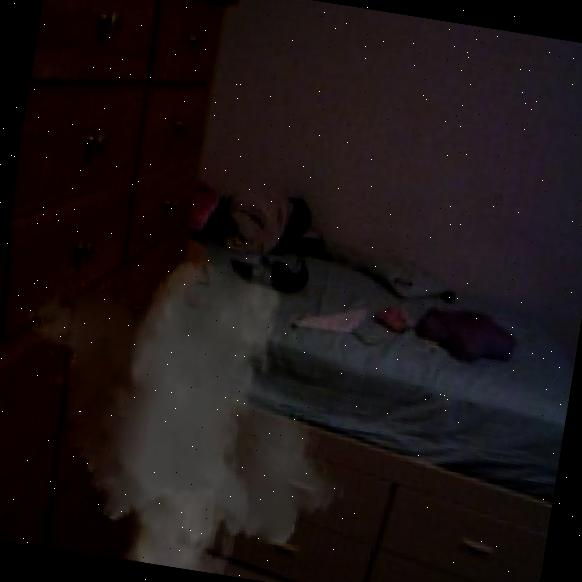smoke: (0, 217, 381, 582)
